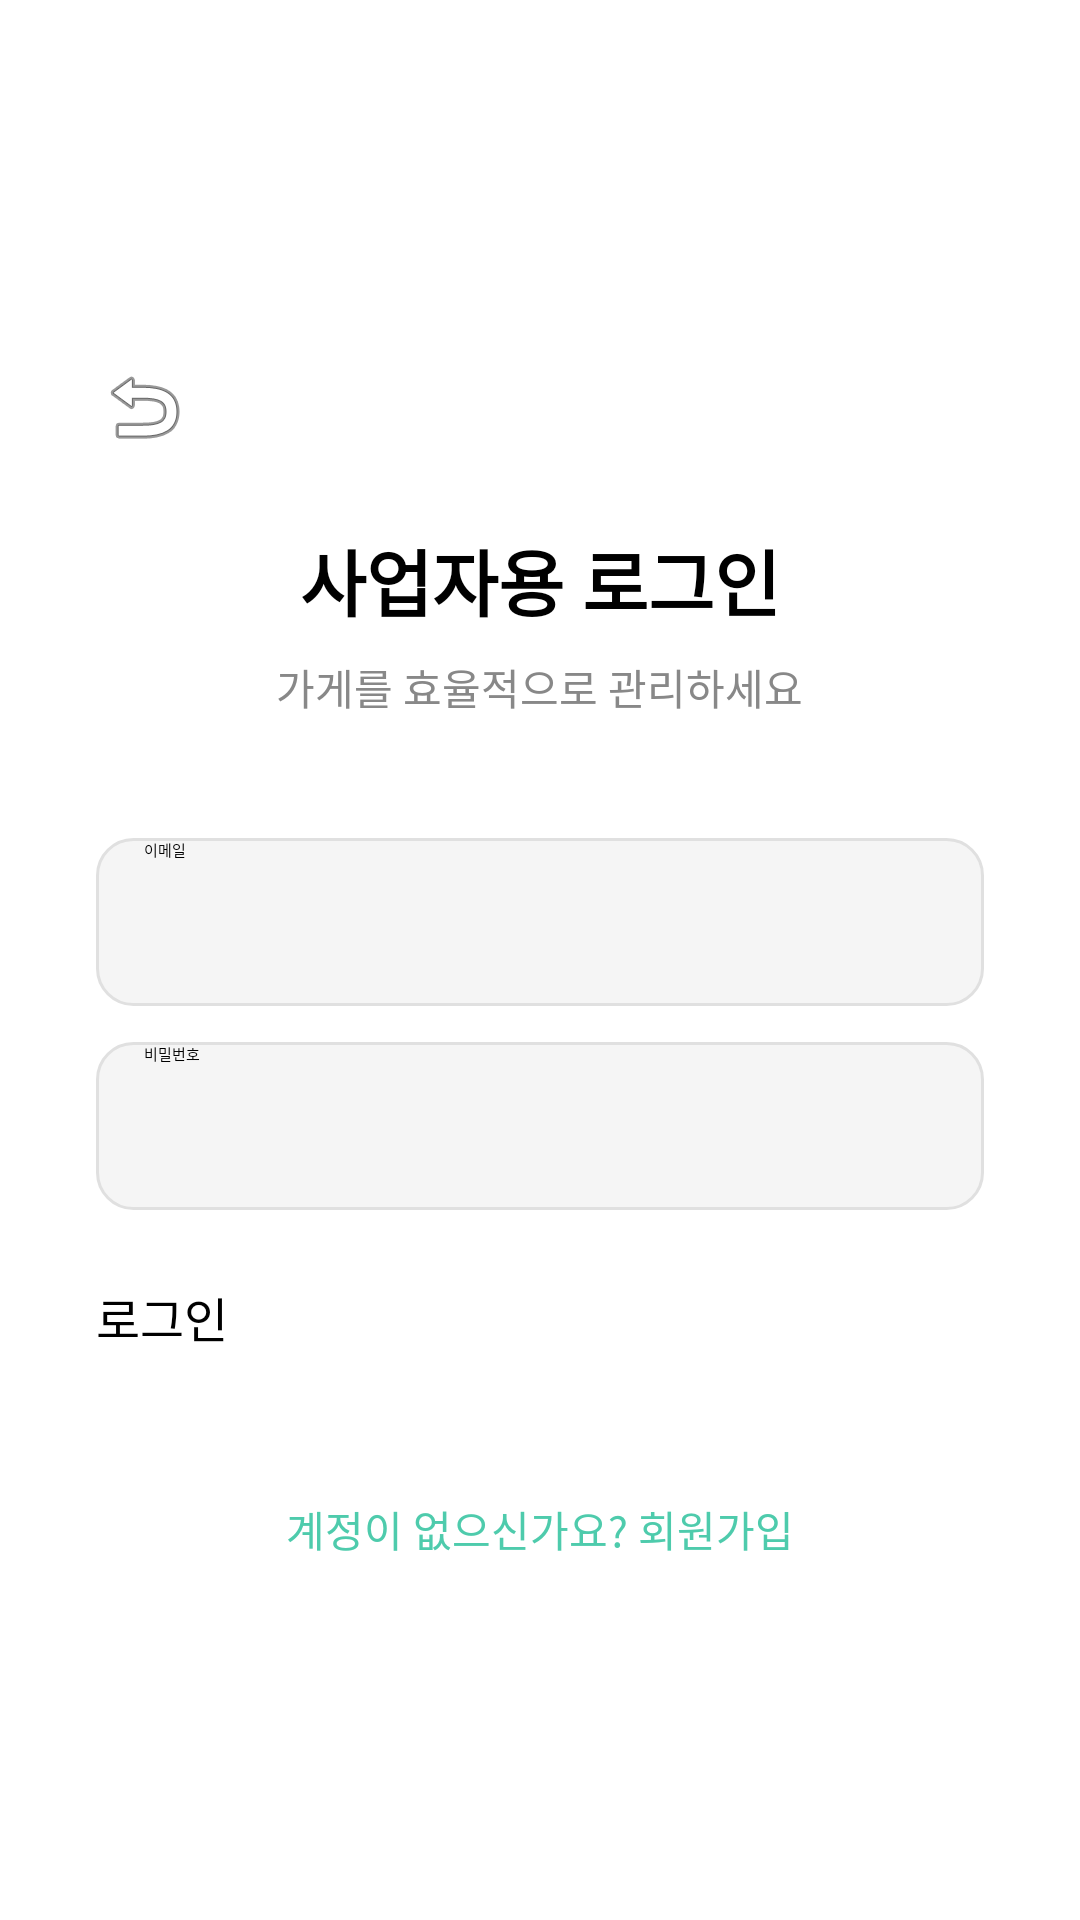

Locate icon controls on the screen. Image size 1080 × 1920, boxes as box(x1, y1, x2, y2).
revert: box(111, 376, 180, 439)
